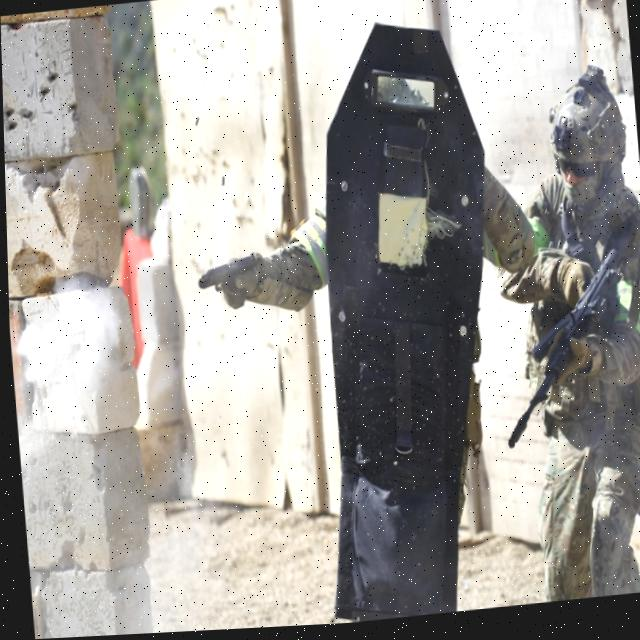firearm: (490, 253, 633, 454)
pistol: (194, 254, 260, 297)
